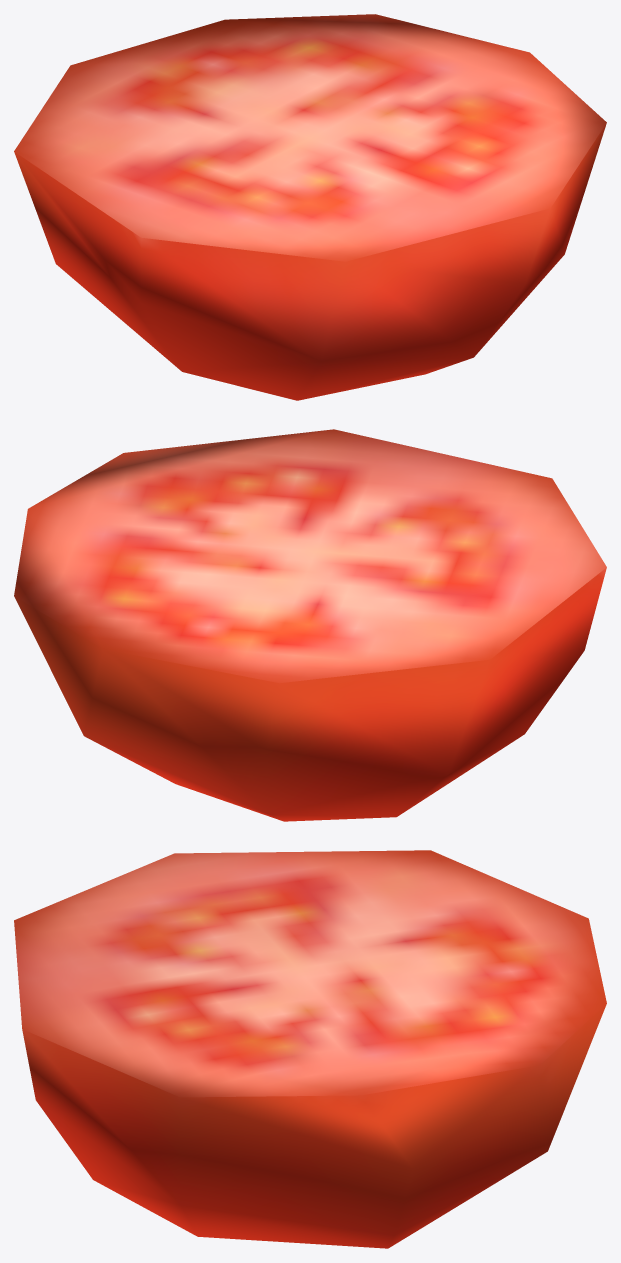
Rendered from 19e3bfcc-2cb4-414a-a0fc-8154c09f6c31.glb.
3 renders of one model, top to bottom at view 1: azimuth 30°, elevation 25°; view 2: azimuth 150°, elevation 25°; view 3: azimuth 270°, elevation 25°, orthographic. The views are drawn at different scales.
Visible parts, largest first — view 1: TomatoHalf; view 2: TomatoHalf; view 3: TomatoHalf.
Part boxes in pixels (left/top/right/bottom): TomatoHalf: left=14, top=14, right=606, bottom=400; TomatoHalf: left=14, top=429, right=606, bottom=821; TomatoHalf: left=14, top=850, right=606, bottom=1248.
Bounding box in the file's own units: 0.0722 × 0.0341 × 0.0722.
1 material, 1 textured.
